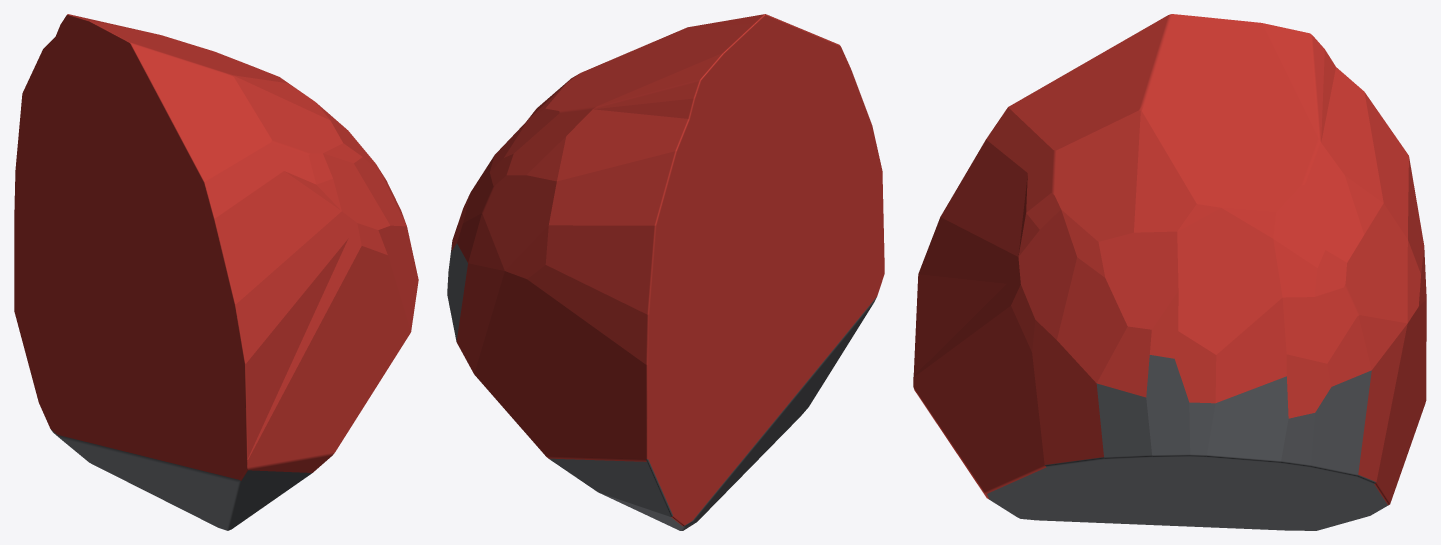
The model's file is SM_SB_Armor_upperarm_l.fbx.
3 views of the same model, side by side, from view 1: azimuth 30°, elevation 25°; view 2: azimuth 150°, elevation 25°; view 3: azimuth 270°, elevation 25° (orthographic). The views are drawn at different scales.
Parts seen in each view (by area): view 1: SM_SB_Armor_upperarm_l; view 2: SM_SB_Armor_upperarm_l; view 3: SM_SB_Armor_upperarm_l.
Boxes of the visible parts, x1=… form: SM_SB_Armor_upperarm_l: x1=14, y1=14, x2=418, y2=530; SM_SB_Armor_upperarm_l: x1=447, y1=14, x2=884, y2=530; SM_SB_Armor_upperarm_l: x1=913, y1=14, x2=1426, y2=530.
Size of the model in its own units: 20.84 by 30.47 by 33.31.
